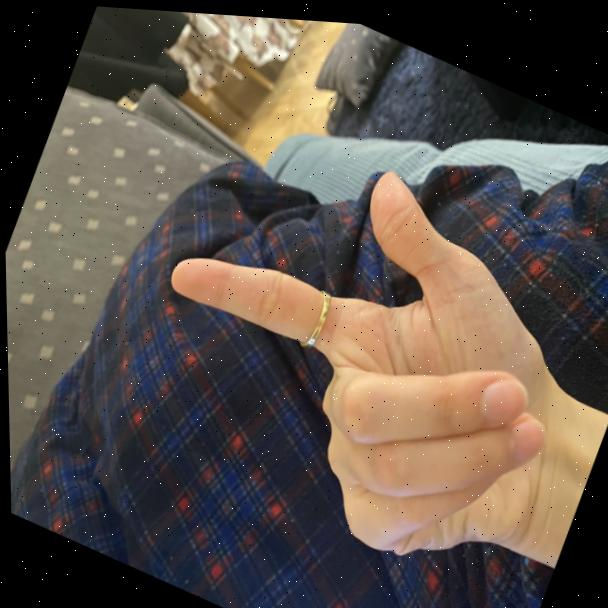five: (93, 93, 605, 607)
